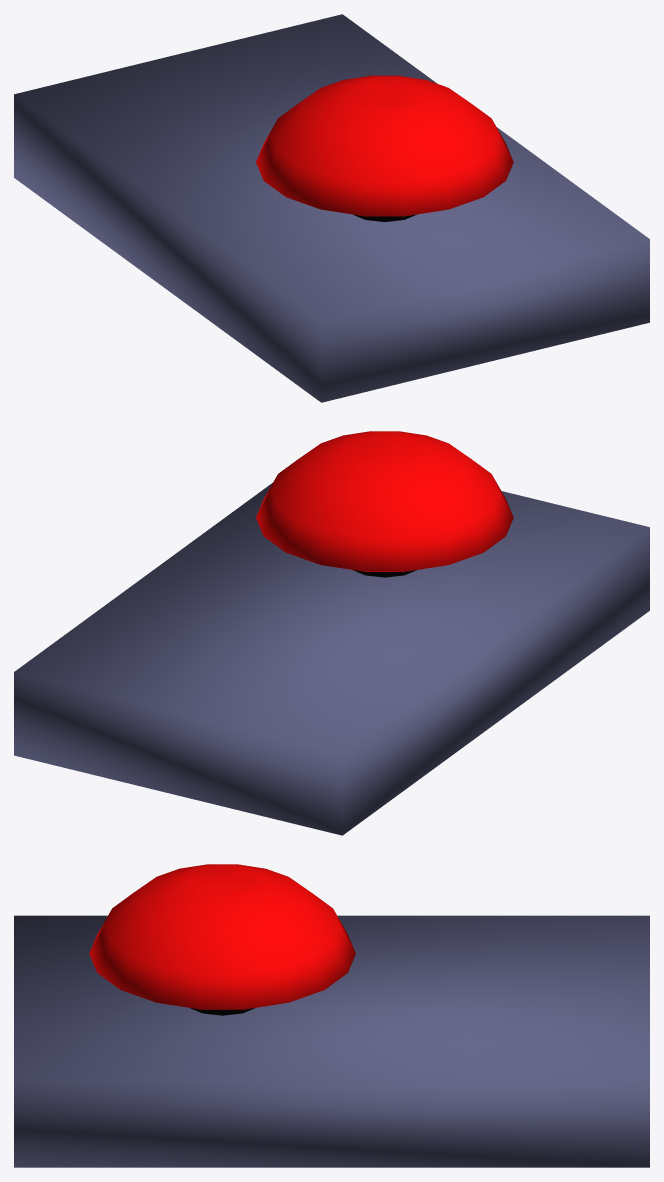
Rendered from Boton_Salida.FBX.
3 views of the same model, one above another, from view 1: azimuth 30°, elevation 25°; view 2: azimuth 150°, elevation 25°; view 3: azimuth 270°, elevation 25° (orthographic). The views are drawn at different scales.
Visible parts, largest first — view 1: Caja, boton; view 2: Caja, boton; view 3: Caja, boton.
Boxes of the visible parts, x1,y1,x2,y2 form: Caja: [14, 14, 649, 402]; boton: [256, 75, 513, 216]; Caja: [14, 483, 649, 835]; boton: [256, 431, 513, 571]; Caja: [14, 915, 649, 1167]; boton: [89, 864, 355, 1009].
Bounding box in the file's own units: 17.21 × 9.73 × 27.89.
